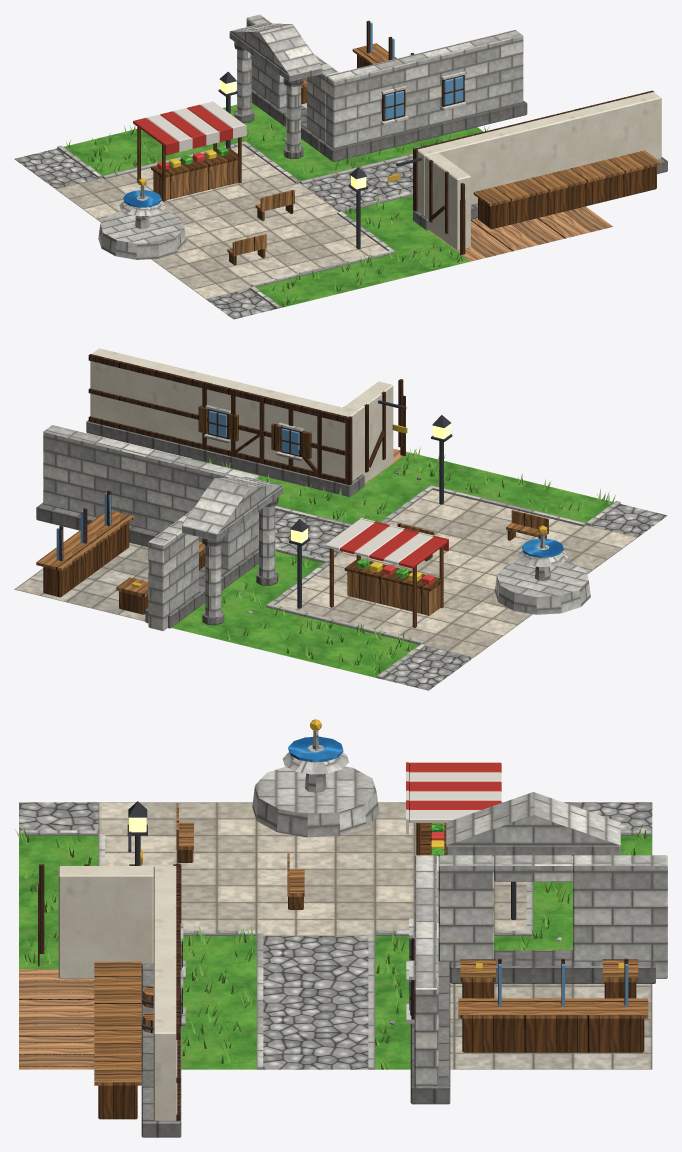
Rendered from chunk_6_5.glb.
3 views of the same model, one above another, from view 1: azimuth 30°, elevation 25°; view 2: azimuth 150°, elevation 25°; view 3: azimuth 270°, elevation 25° (orthographic). The views are drawn at different scales.
Parts seen in each view (by area): view 1: chunk_6_5; view 2: chunk_6_5; view 3: chunk_6_5.
Boxes of the visible parts, box(x1,y1,x2,y2) form: chunk_6_5: box(14, 14, 667, 319); chunk_6_5: box(14, 348, 667, 690); chunk_6_5: box(15, 719, 667, 1137).
Size of the model in its own units: 21.21 by 4.34 by 16.53.
25 materials, 16 textured.
